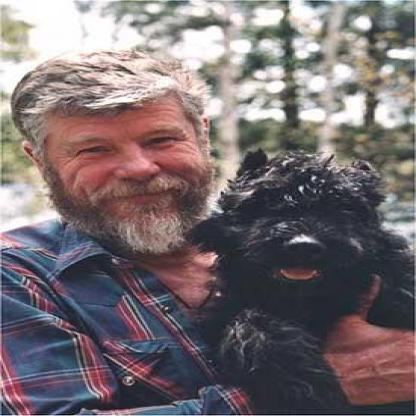Bouvier_des_Flandres: (175, 146, 410, 411)
